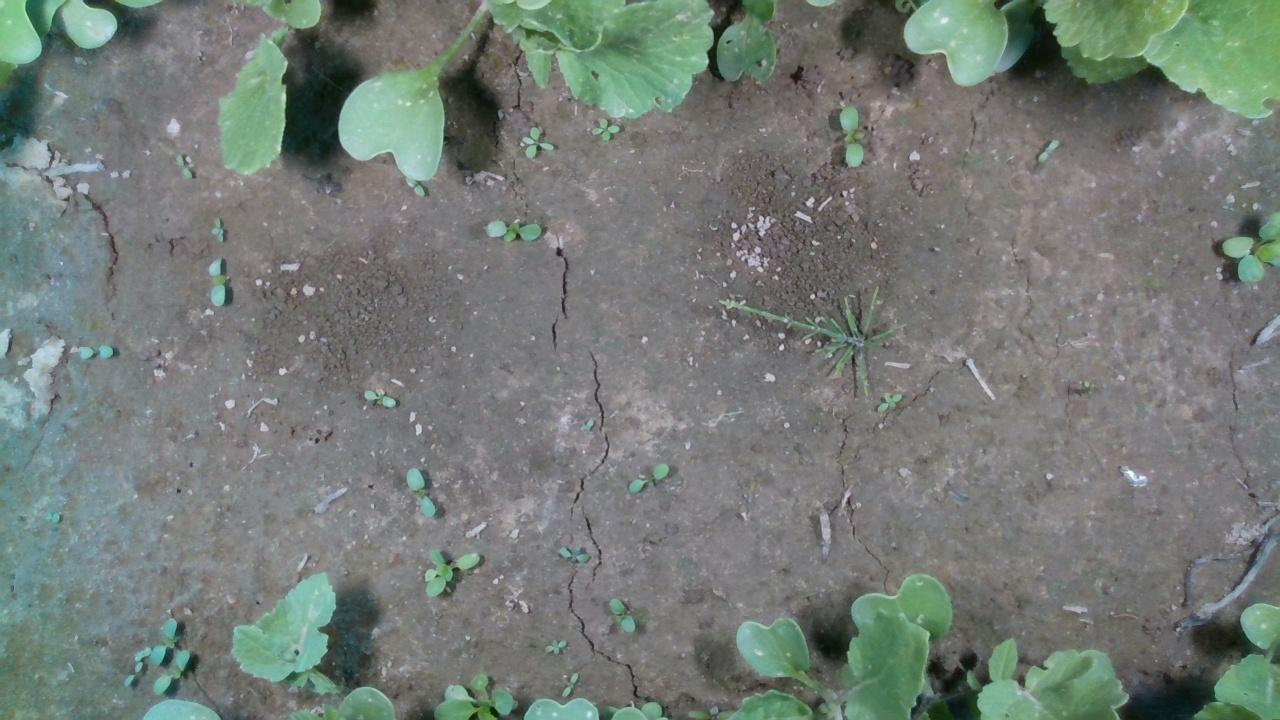weed: (837, 103, 865, 169), (405, 465, 435, 518), (625, 461, 668, 495), (518, 123, 555, 159), (481, 217, 541, 239), (606, 595, 635, 633), (207, 254, 224, 306), (589, 117, 619, 140), (361, 388, 397, 407), (77, 341, 113, 360), (1036, 137, 1060, 164), (555, 544, 589, 563), (875, 390, 902, 412), (122, 660, 142, 687), (174, 153, 193, 179), (560, 670, 578, 697), (543, 636, 566, 654), (209, 216, 223, 242)
